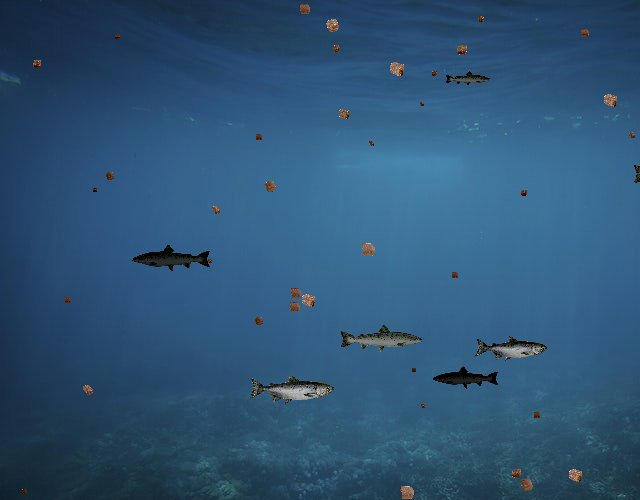Fish: (338, 323, 424, 354), (248, 374, 334, 405), (131, 243, 212, 273), (474, 336, 547, 362), (432, 365, 500, 390), (444, 71, 491, 88)
Pellet: (514, 472, 540, 498), (76, 379, 98, 401), (575, 24, 594, 43), (516, 186, 530, 200), (428, 67, 441, 80), (111, 31, 123, 43)
